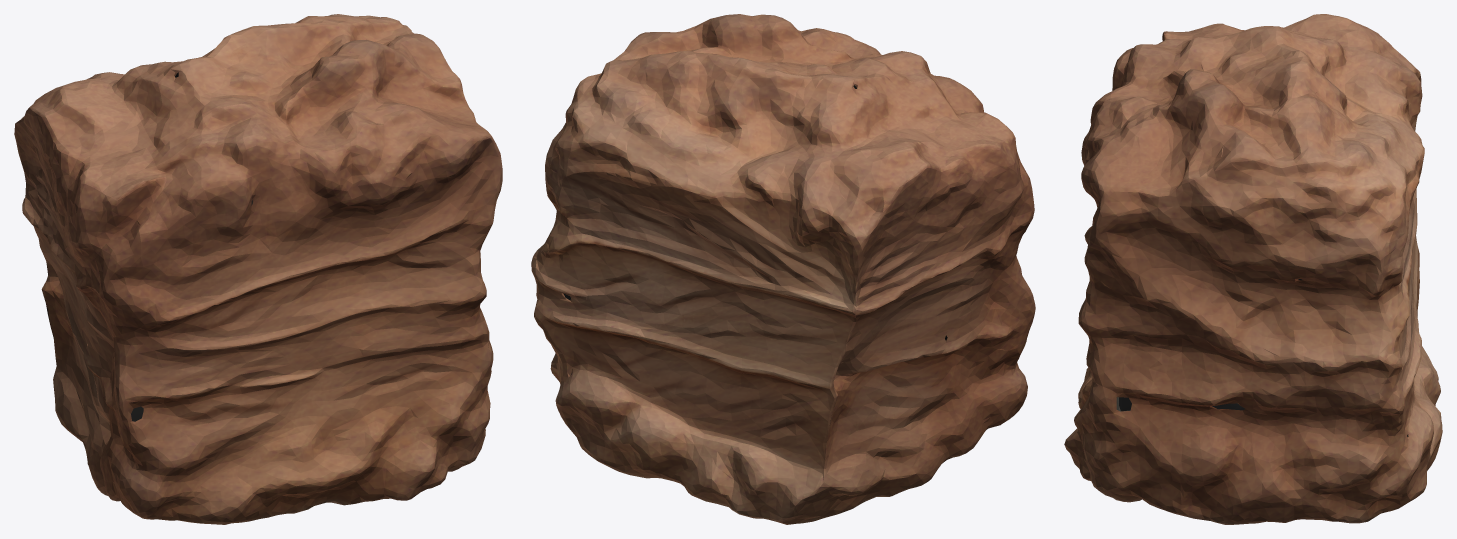
3 views of the same model, side by side, from view 1: azimuth 30°, elevation 25°; view 2: azimuth 150°, elevation 25°; view 3: azimuth 270°, elevation 25° (orthographic). The views are drawn at different scales.
Parts seen in each view (by area): view 1: world; view 2: world; view 3: world.
Part boxes in pixels (x1,y1,x2,y2): world: (14,14,502,524); world: (531,14,1035,524); world: (1064,14,1442,524).
Size of the model in its own units: 0.7094 by 0.6973 by 0.5715.
1 material, 1 textured.
